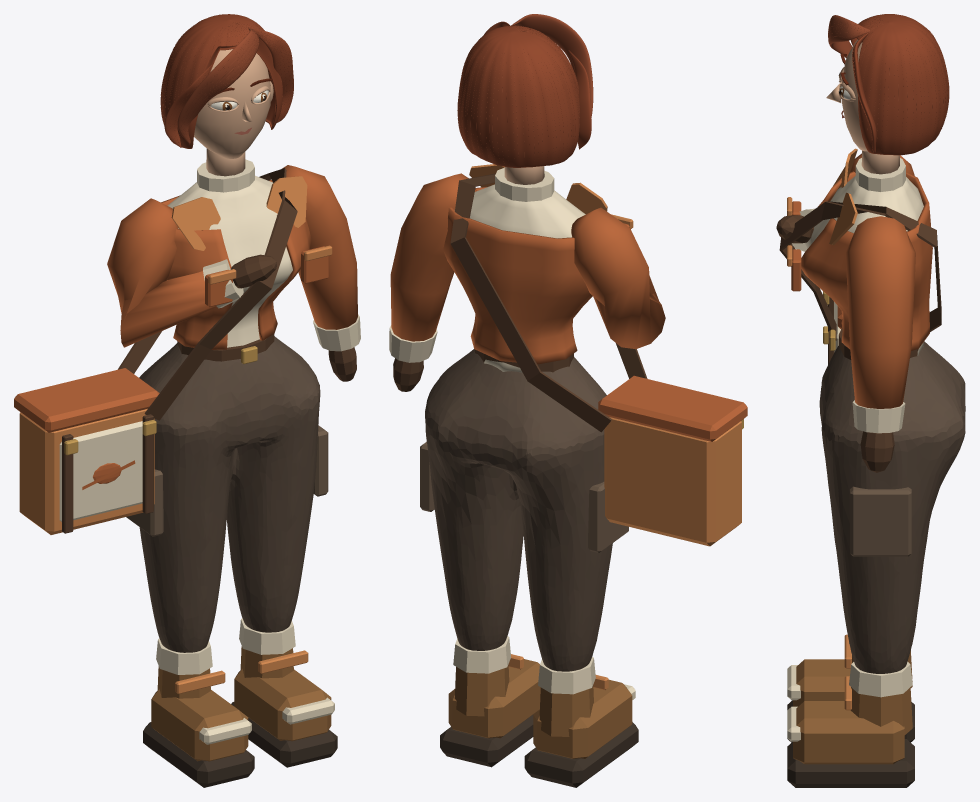
Rendered from CourierGirl.fbx.
The picture shows the model from 3 angles, left to right: view 1: azimuth 30°, elevation 25°; view 2: azimuth 150°, elevation 25°; view 3: azimuth 270°, elevation 25°; orthographic projection. The views are drawn at different scales.
Visible parts, largest first — view 1: CourierGirl; view 2: CourierGirl; view 3: CourierGirl.
Boxes of the visible parts, x1,y1,x2,y2 form: CourierGirl: [14, 14, 360, 787]; CourierGirl: [389, 14, 747, 787]; CourierGirl: [776, 14, 965, 787].
Bounding box in the file's own units: 0.8595 × 1.79 × 0.4147.
